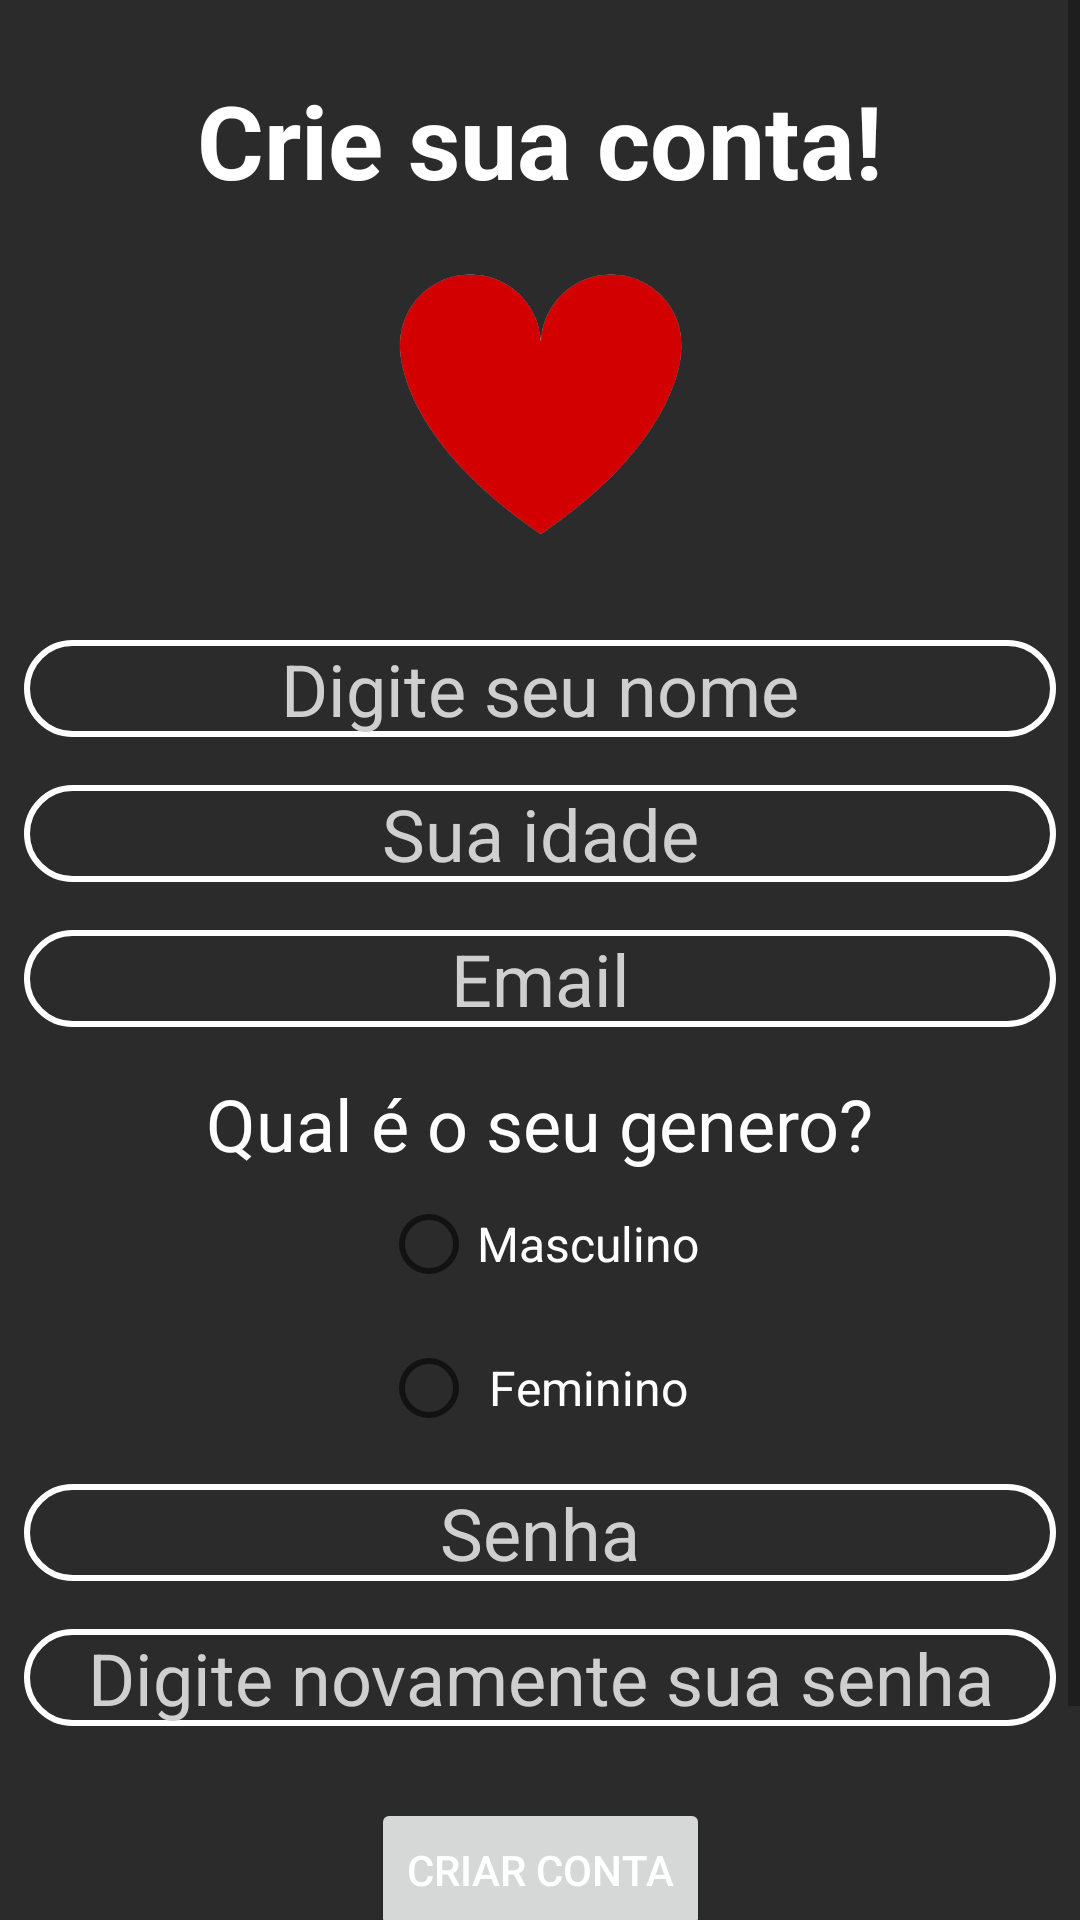

Named icons in this screenshot (1080x1920) and their centers, point (x, y):
hearticon: point (541, 404)
